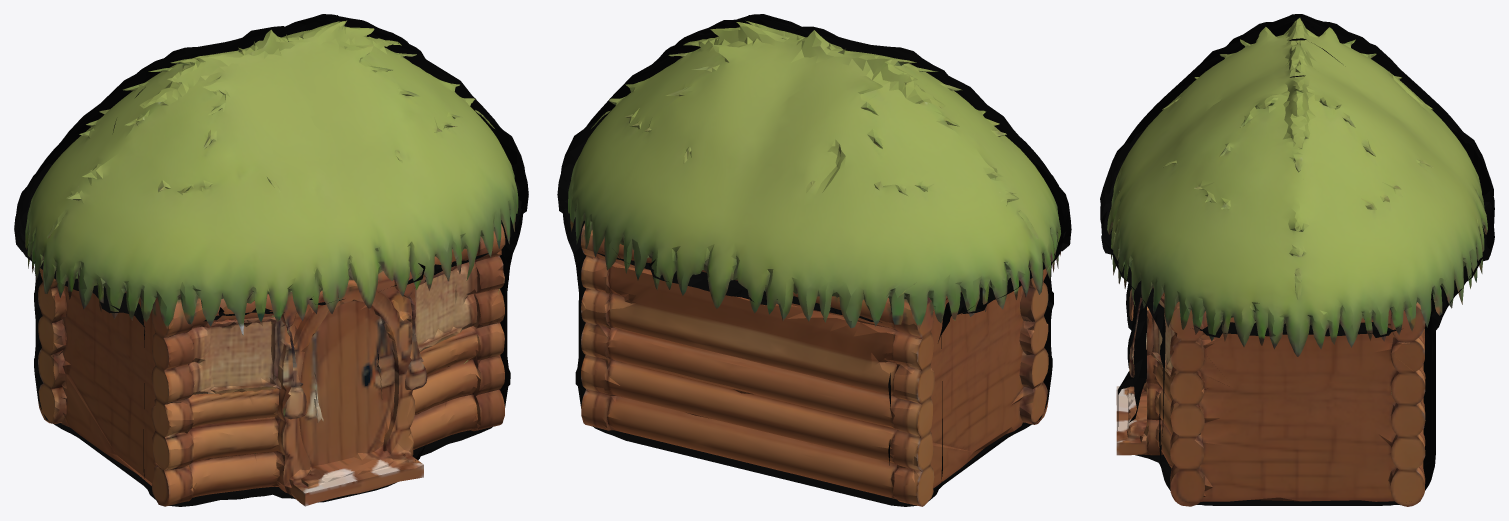
The model's file is Home_Bram.glb.
The picture shows the model from 3 angles, left to right: view 1: azimuth 30°, elevation 25°; view 2: azimuth 150°, elevation 25°; view 3: azimuth 270°, elevation 25°; orthographic projection. The views are drawn at different scales.
Parts seen in each view (by area): view 1: Home_Bram, Home_Bram_OutlineHull; view 2: Home_Bram, Home_Bram_OutlineHull; view 3: Home_Bram, Home_Bram_OutlineHull.
Part boxes in pixels (x1,y1,x2,y2): Home_Bram: [25, 20, 518, 506]; Home_Bram_OutlineHull: [14, 14, 528, 506]; Home_Bram: [568, 21, 1060, 506]; Home_Bram_OutlineHull: [557, 14, 1071, 506]; Home_Bram: [1107, 18, 1487, 506]; Home_Bram_OutlineHull: [1100, 14, 1494, 505].
Bounding box in the file's own units: 2.92 × 2.48 × 2.24.
2 materials, 1 textured.
